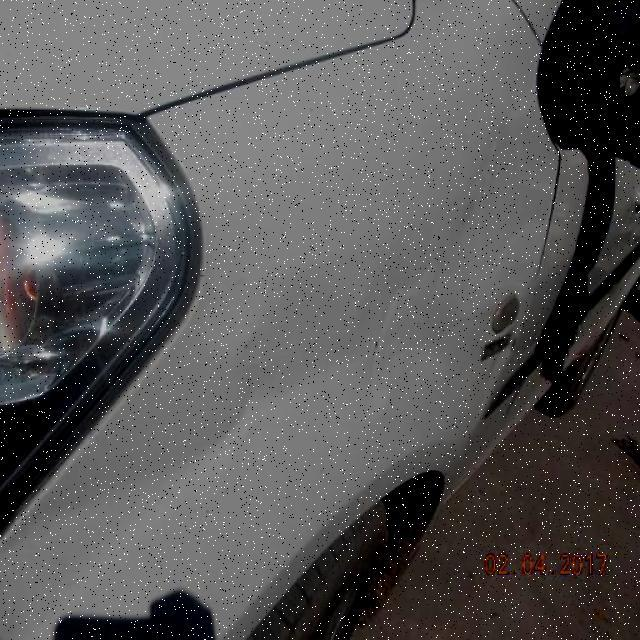car damage: (224, 143, 499, 444), (533, 148, 617, 388)
